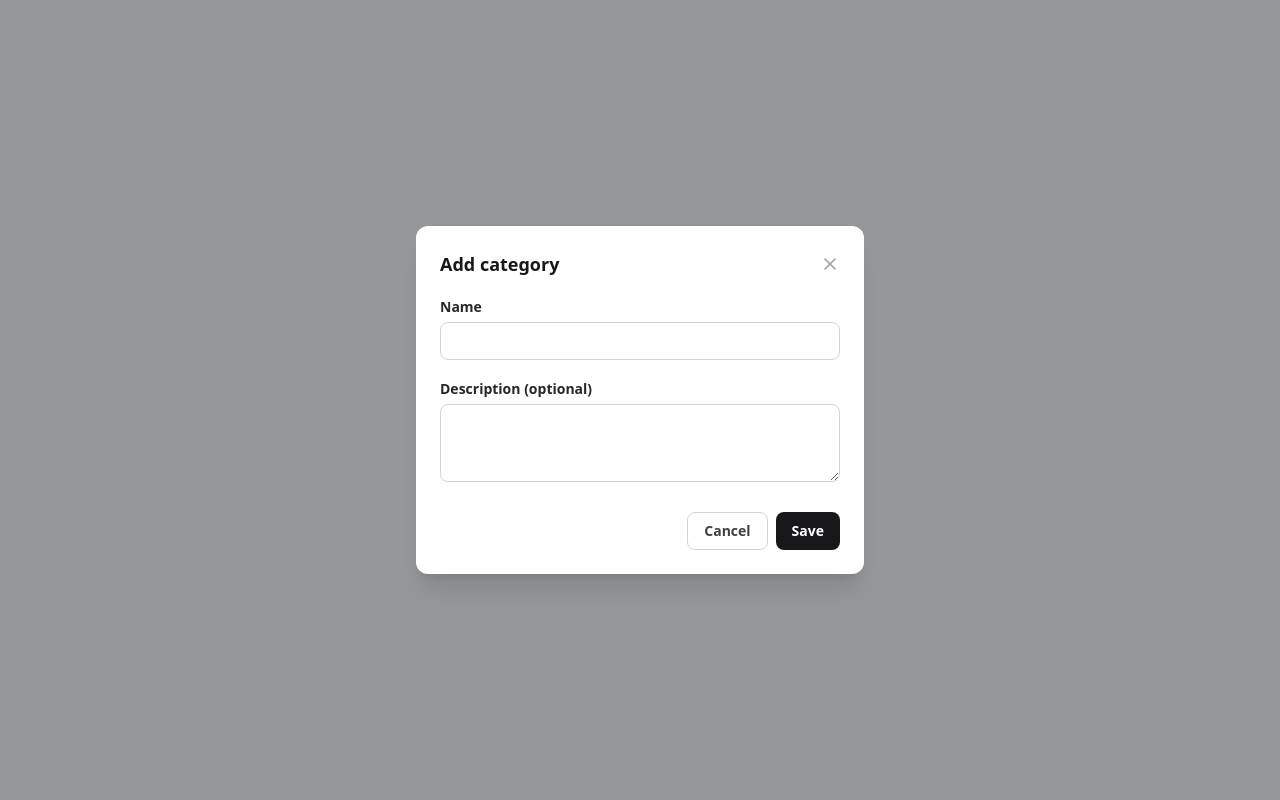
CategoryFormModal (IMS-09.2) › shows the duplicate-name message under the Name field on 409 CATEGORY_NAME_TAKEN
Type "keyboards" into the field labelled "Name" at point(640, 341), box x1=440 y1=322 x2=840 y2=360
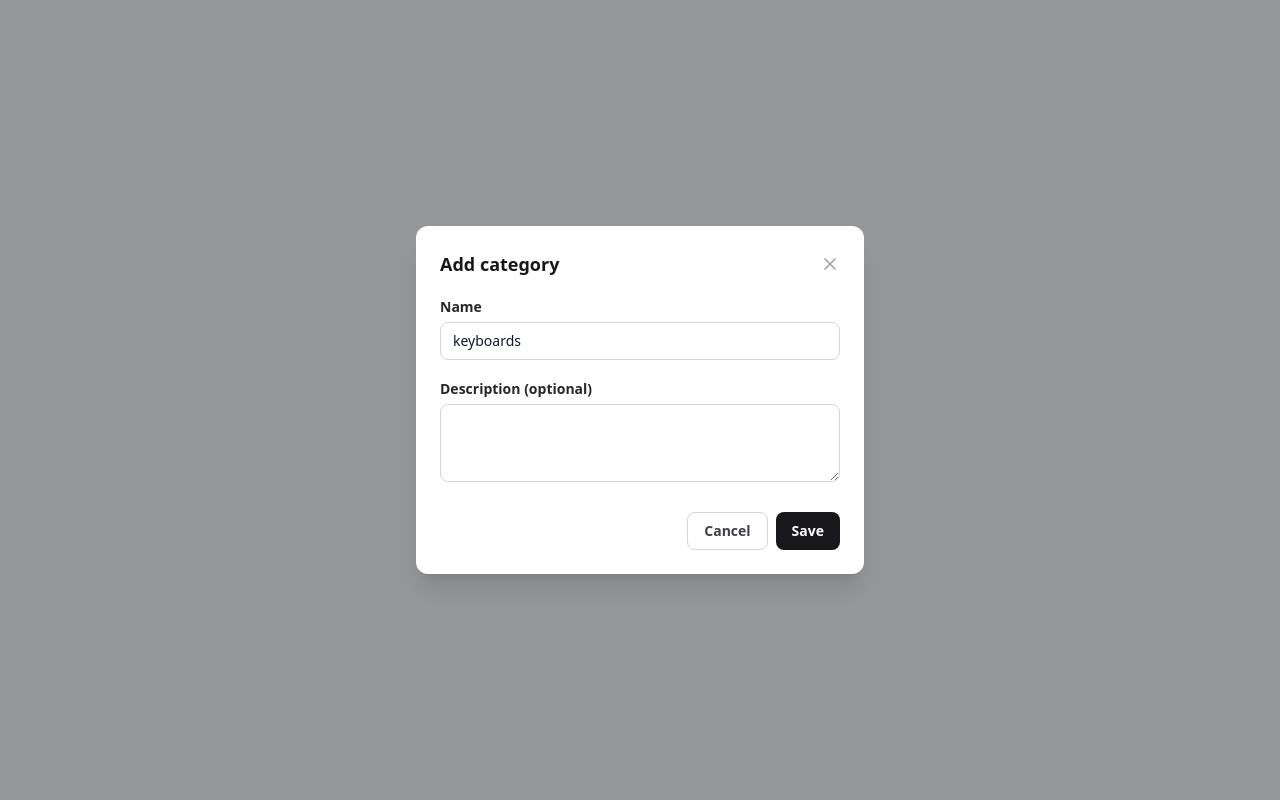
Click the button "Save" at point(808, 531), box x1=776 y1=512 x2=840 y2=550
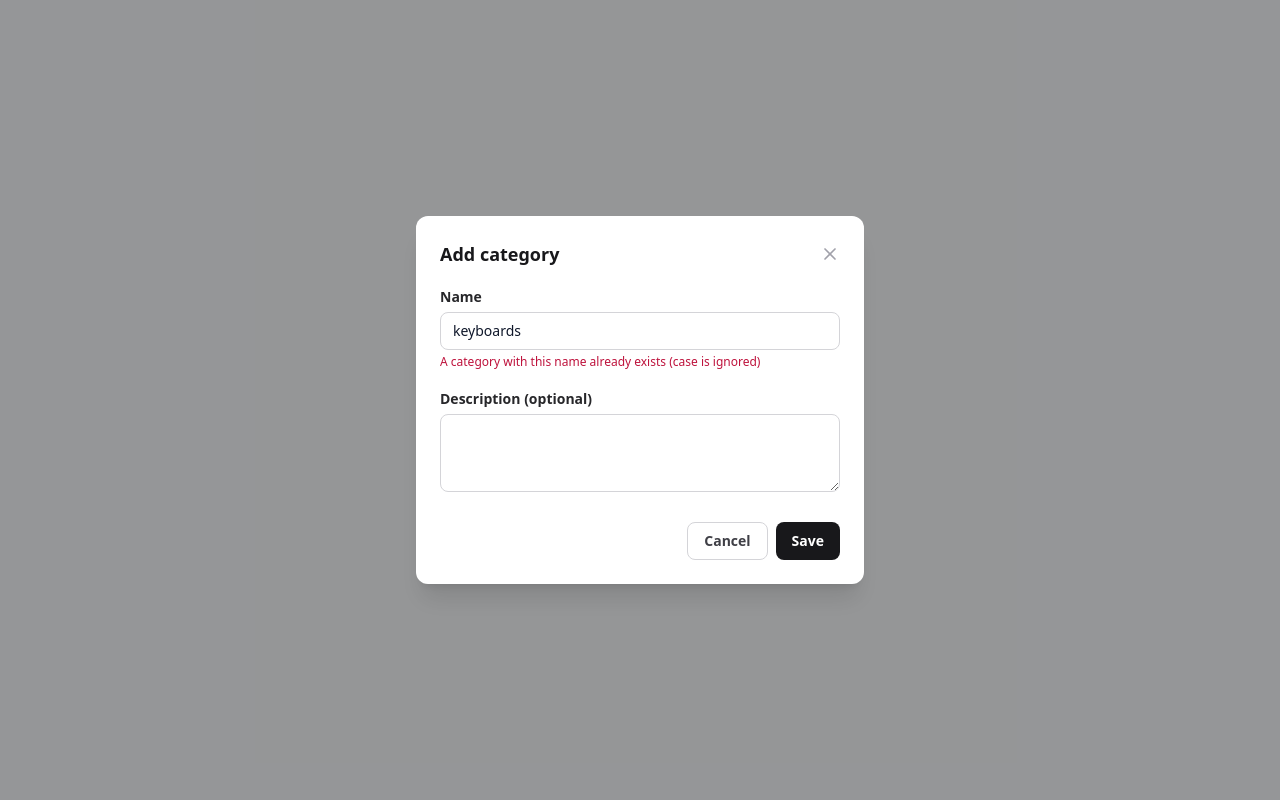
Expected: the text "A category with this name already exists (case is ignored)" is shown, x1=440 y1=353 x2=760 y2=370
